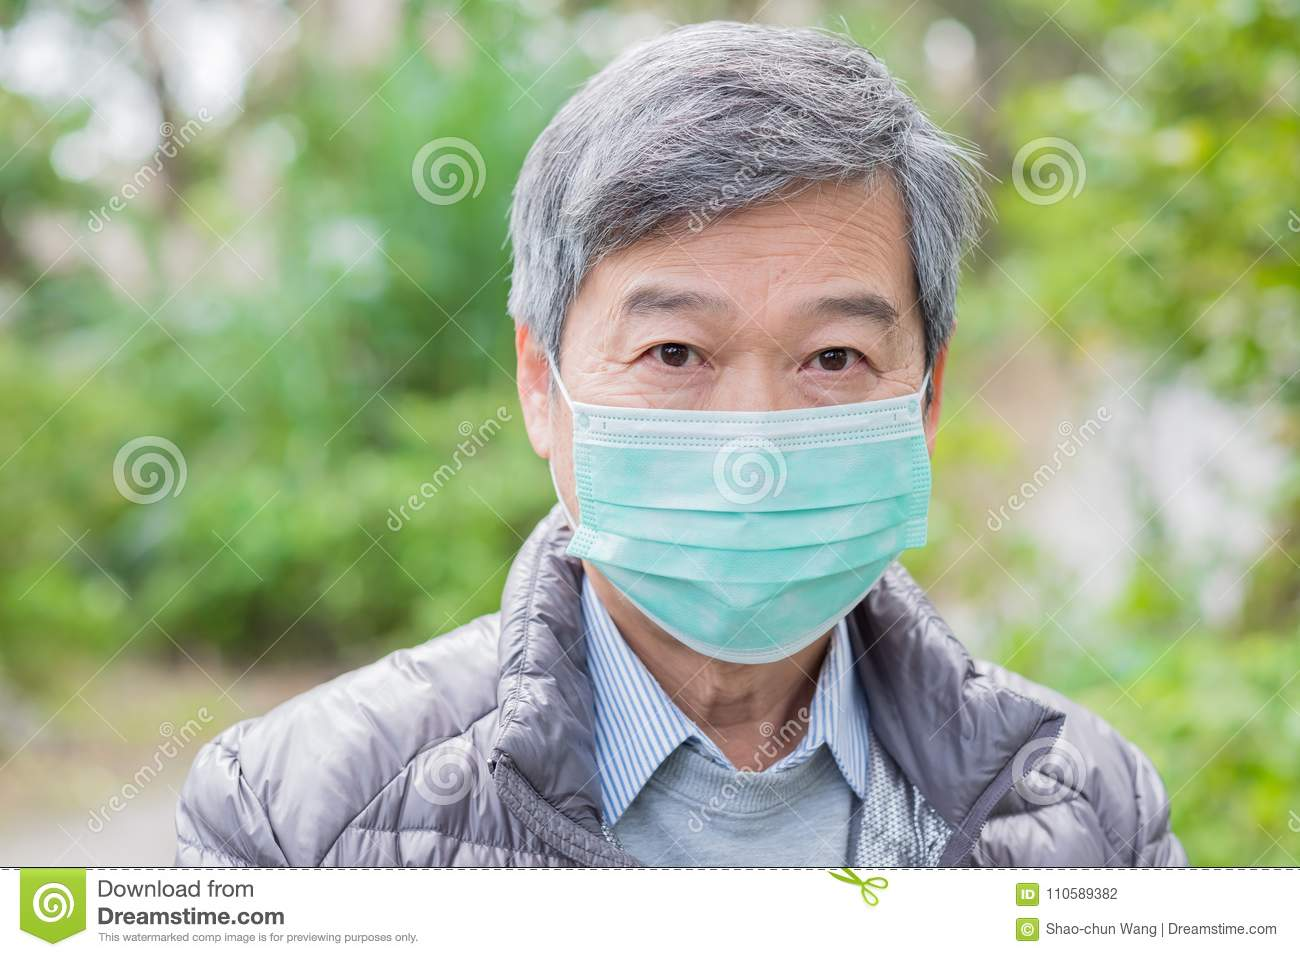mask: (560, 394, 928, 675)
